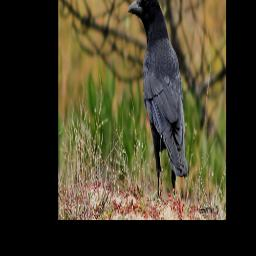Crow: (128, 0, 190, 204)
